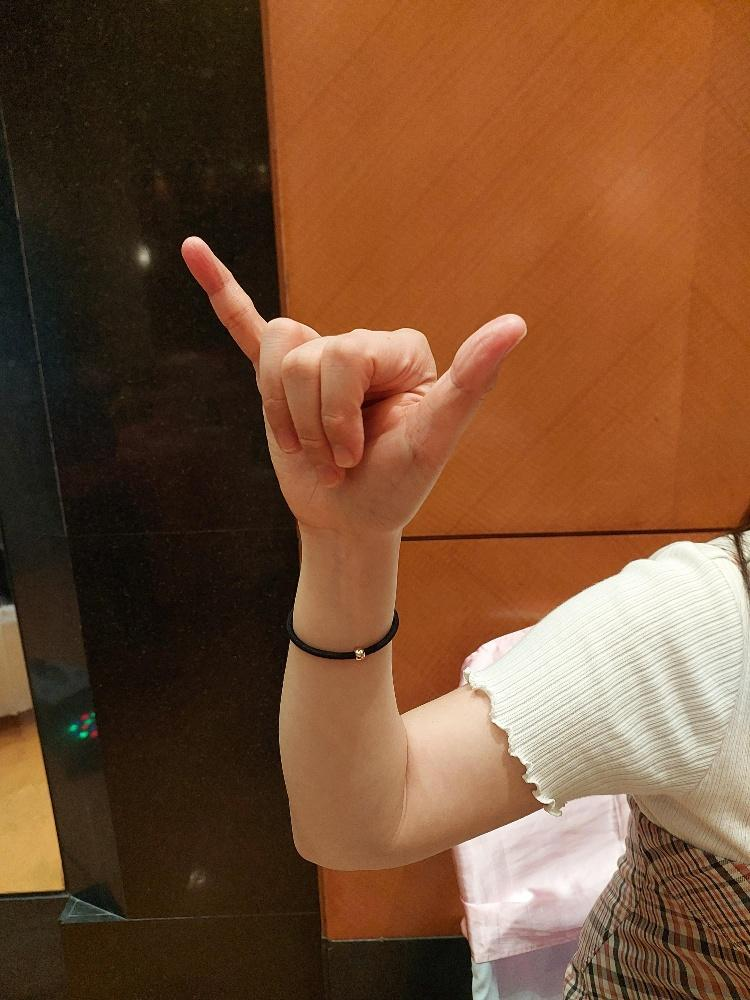y: (178, 231, 534, 543)
